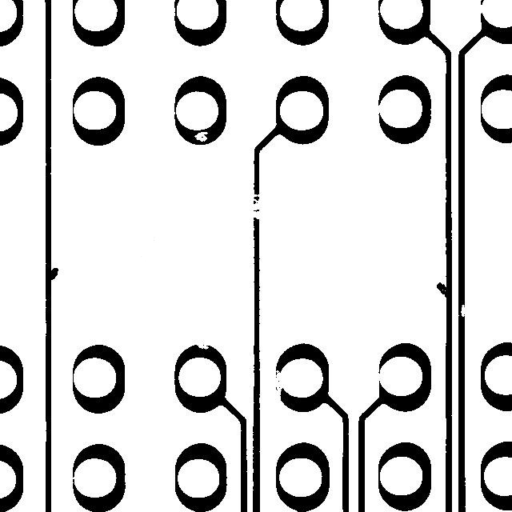mousebite: (188, 334, 218, 357), (453, 297, 474, 324)
open: (266, 359, 293, 410), (240, 186, 273, 226)
pin-hole: (186, 124, 215, 149)
spur: (429, 274, 458, 305), (42, 260, 66, 287)
